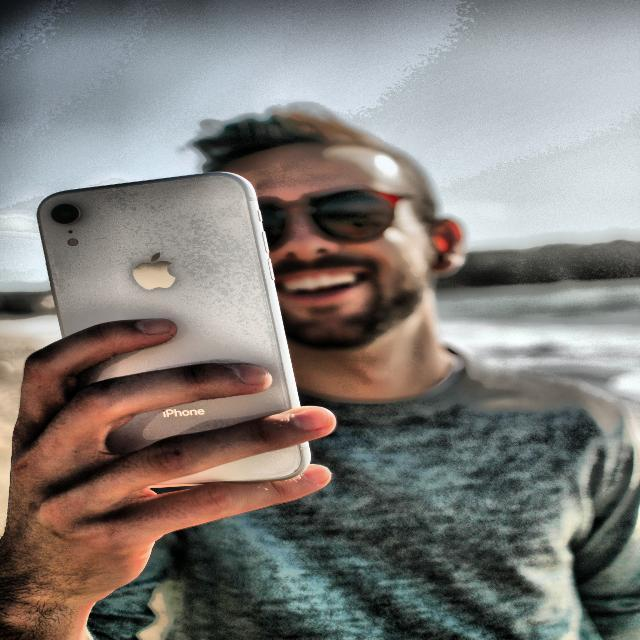Phone: (35, 168, 316, 489)
